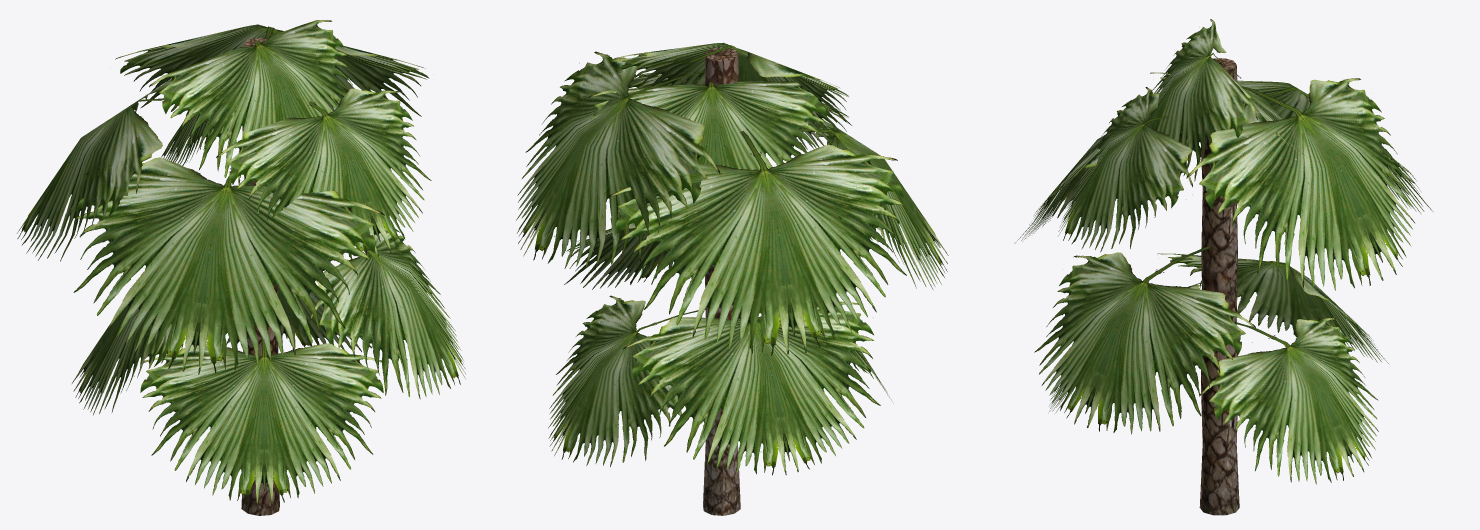
The model's file is plant d.dae.
3 views of the same model, side by side, from view 1: azimuth 30°, elevation 25°; view 2: azimuth 150°, elevation 25°; view 3: azimuth 270°, elevation 25° (orthographic). The views are drawn at different scales.
Parts seen in each view (by area): view 1: plant_d_Group2_Form2, plant_d_Group2_Form0, plant_d_Group2_Shape0; view 2: plant_d_Group2_Form2, plant_d_Group2_Form0, plant_d_Group2_Shape0; view 3: plant_d_Group2_Form2, plant_d_Group2_Form0, plant_d_Group2_Shape0.
Boxes of the visible parts, x1,y1,x2,y2 form: plant_d_Group2_Form2: [17, 20, 431, 505]; plant_d_Group2_Form0: [72, 157, 465, 414]; plant_d_Group2_Shape0: [241, 38, 279, 515]; plant_d_Group2_Form2: [516, 42, 906, 466]; plant_d_Group2_Form0: [564, 121, 948, 475]; plant_d_Group2_Shape0: [703, 47, 740, 515]; plant_d_Group2_Form2: [1049, 19, 1432, 484]; plant_d_Group2_Form0: [1014, 131, 1388, 434]; plant_d_Group2_Shape0: [1199, 58, 1239, 515].
Size of the model in its own units: 45.77 by 47.25 by 46.3.
2 materials, 2 textured.
